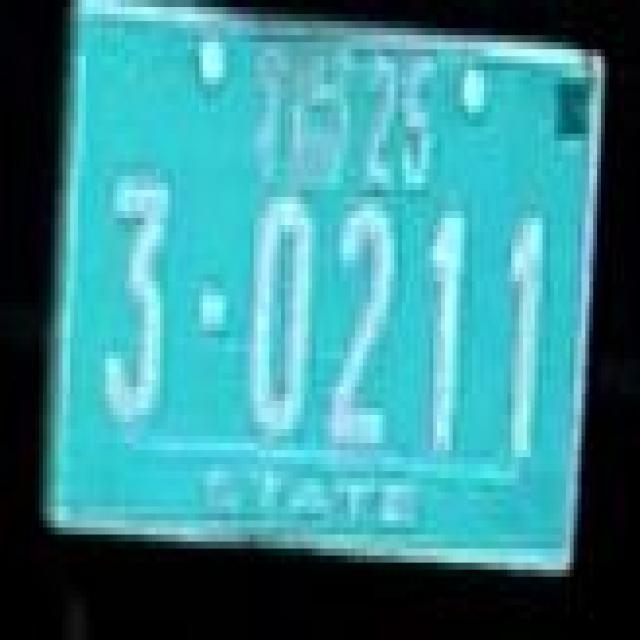State: (250, 49, 353, 194)
